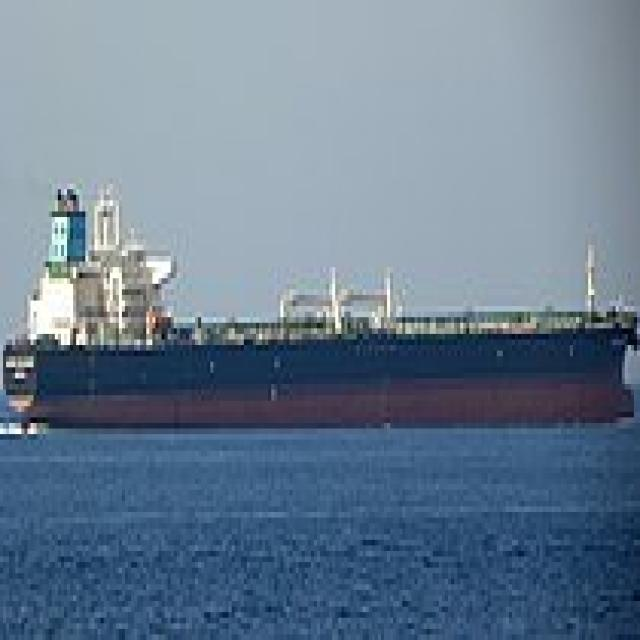Tanker: (0, 172, 637, 423)
